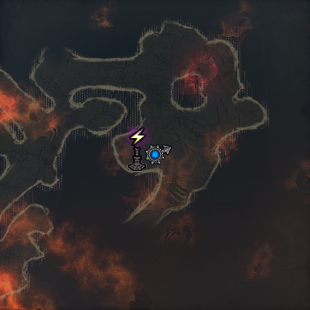ConduitPylon: (126, 127, 147, 171)
